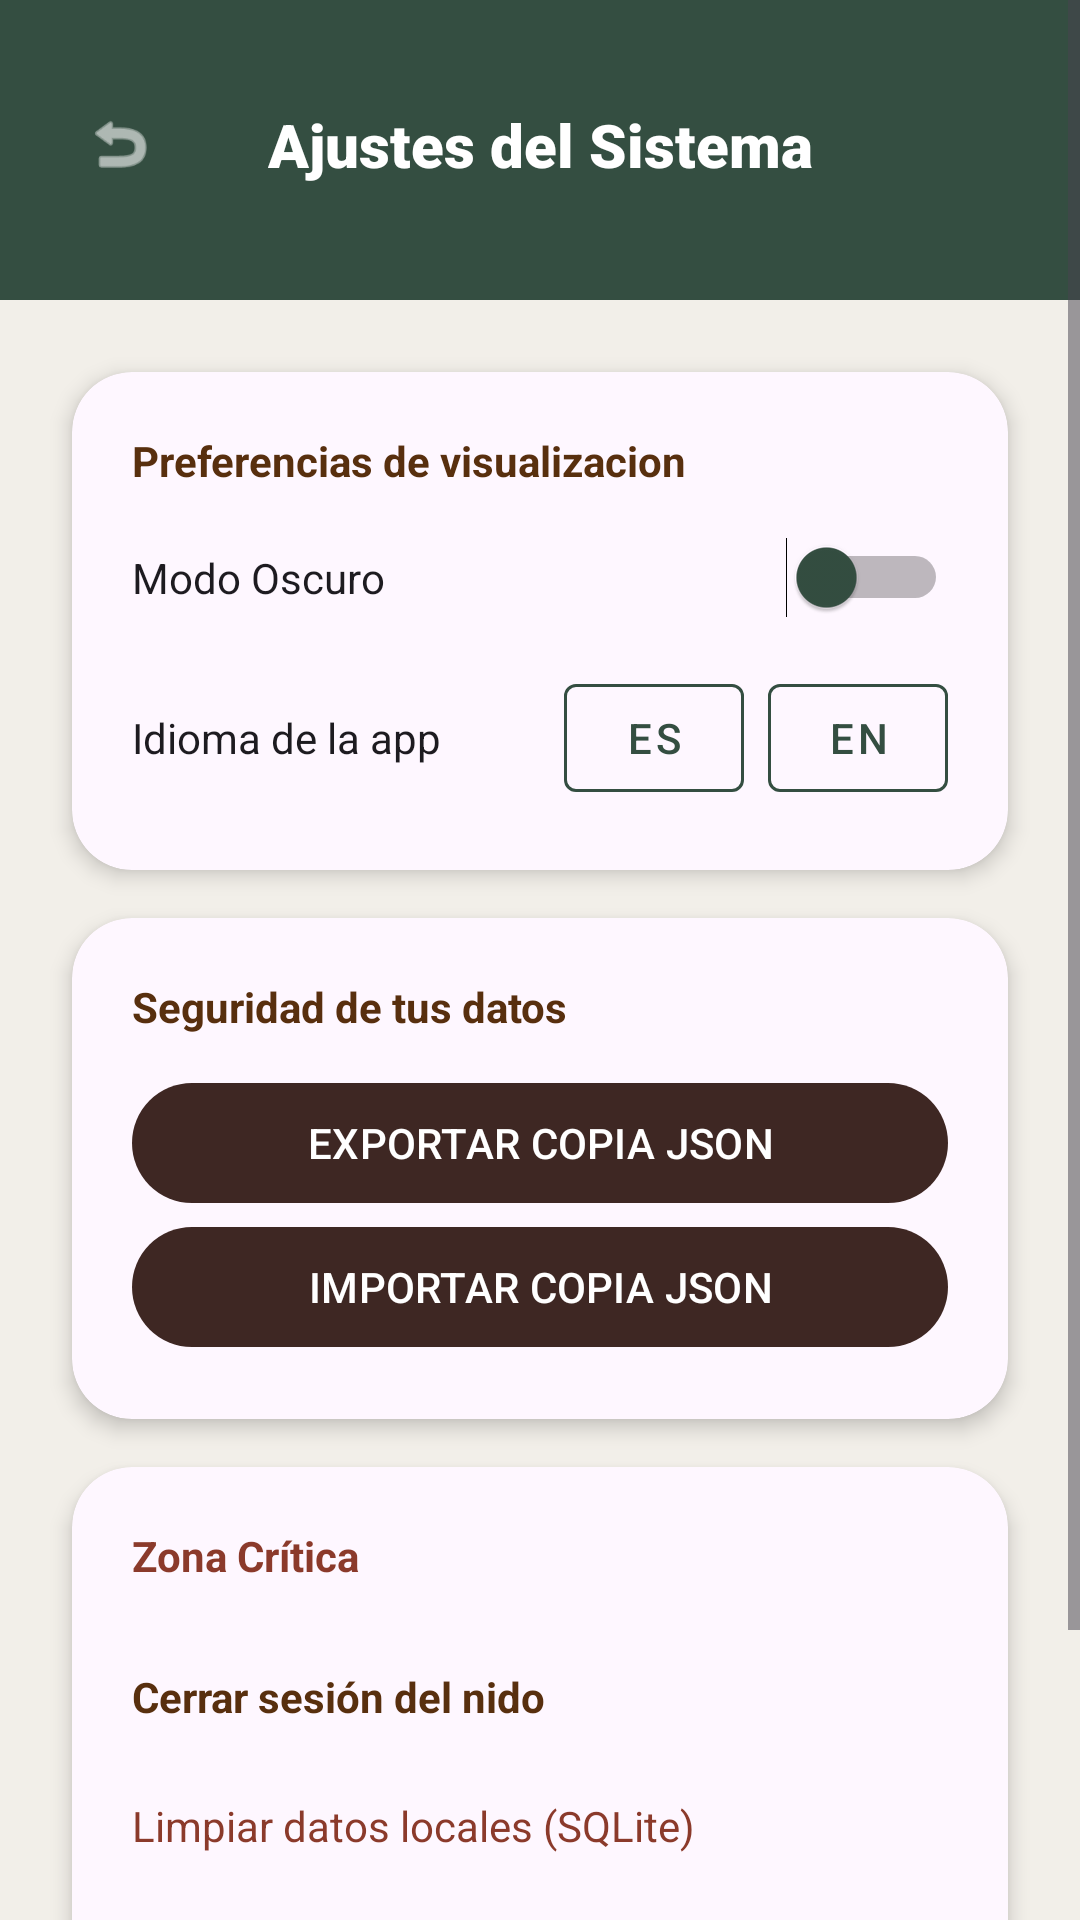

Named icons in this screenshot (1080x1920) and their centers, (x,y):
revert: (121,144)
